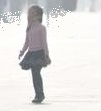person: (18, 5, 52, 105)
